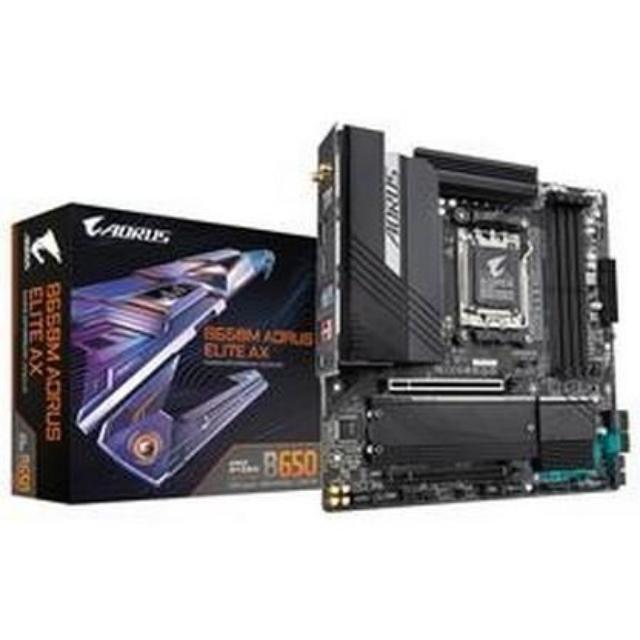Mainboard: (311, 115, 634, 517)
